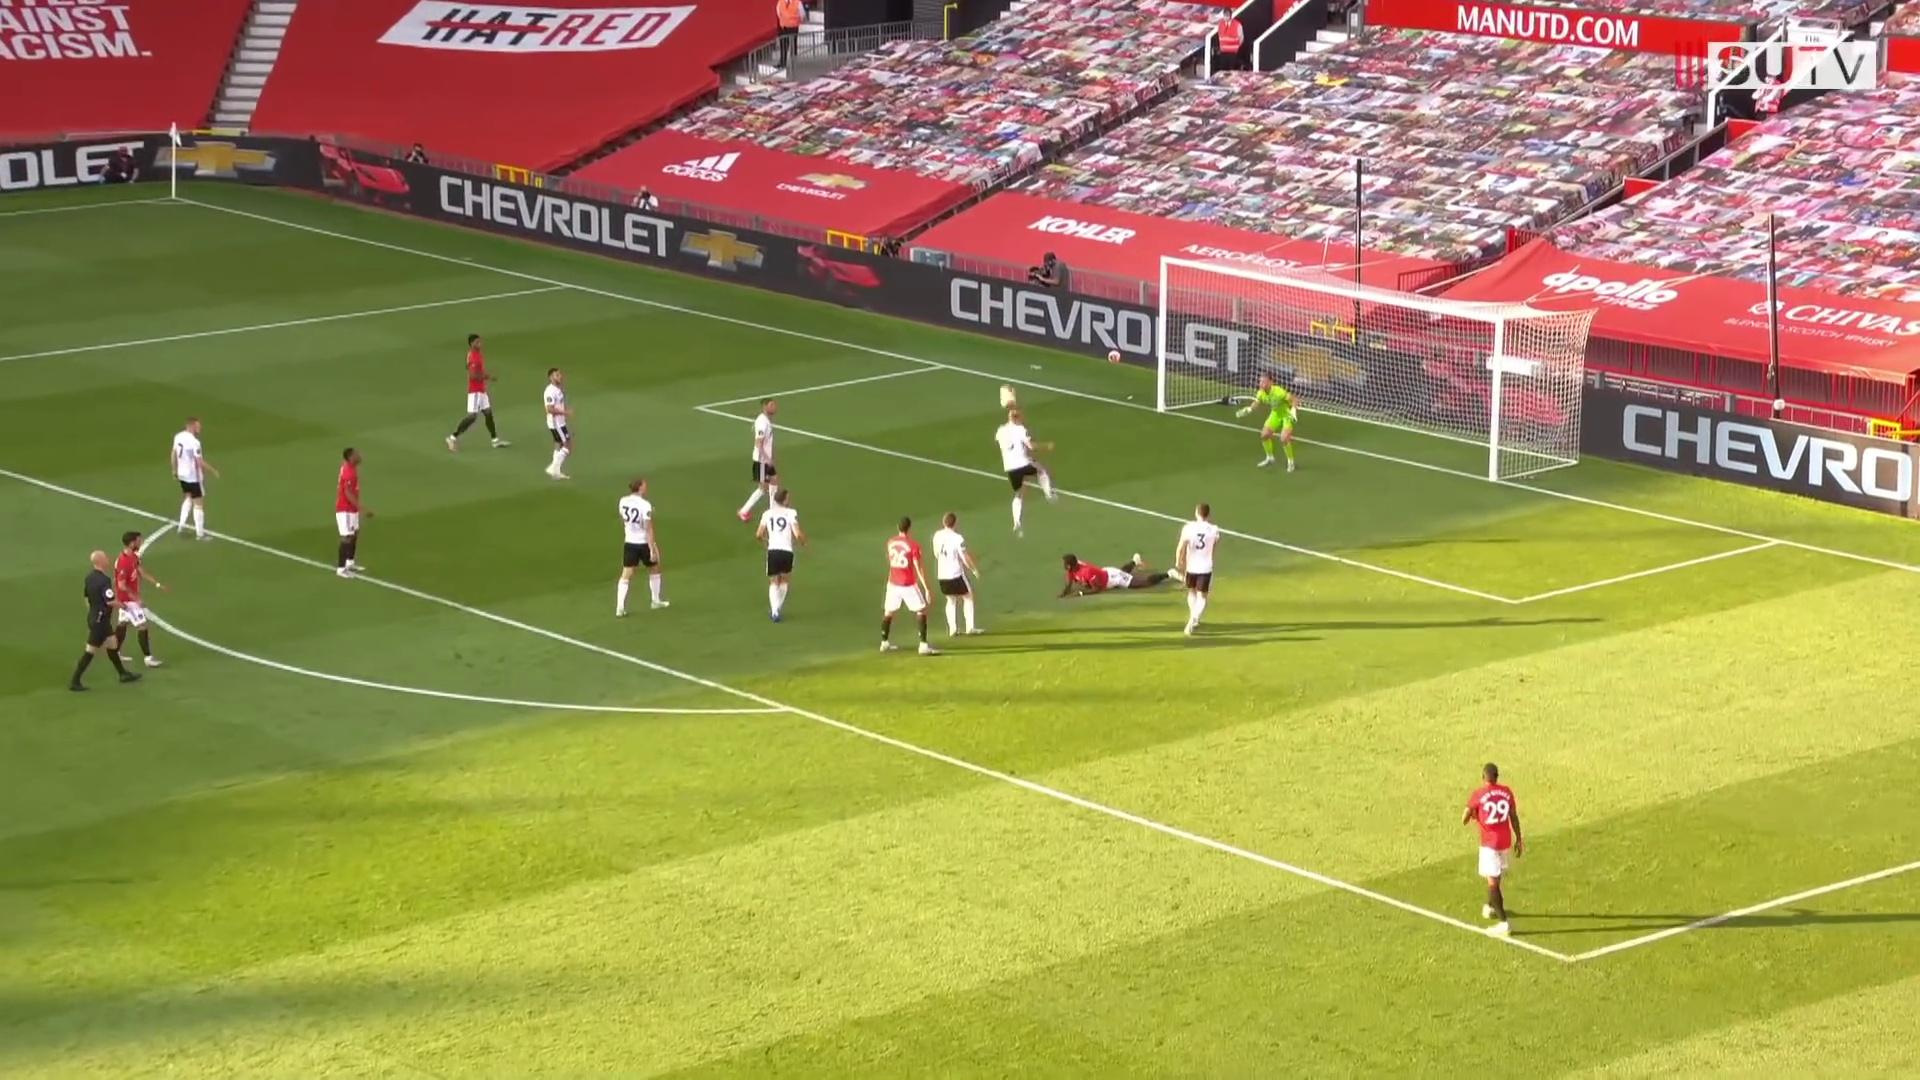ball: (1000, 383, 1019, 409), (1107, 348, 1123, 363)
goalkeeper: (1237, 370, 1301, 474)
player: (1459, 758, 1529, 939), (996, 405, 1070, 543), (871, 515, 939, 663), (613, 478, 677, 621), (735, 396, 803, 527), (921, 510, 985, 648), (753, 486, 810, 631), (161, 410, 220, 548), (447, 331, 513, 454), (109, 530, 166, 671), (1173, 500, 1227, 642), (1060, 550, 1185, 604), (335, 442, 379, 583), (539, 365, 582, 485)
referee: (64, 545, 142, 693)
